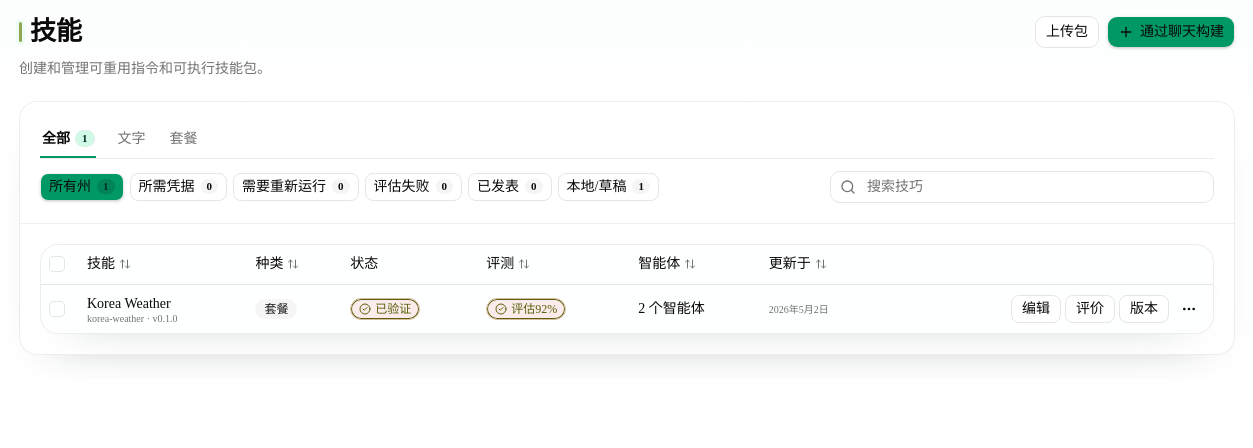
SkillsPage › '清除选择' 会同时重置 controlled 选择(rowSelection+selected)
What coordinates should you click on to do the following:
click the checkbox named "选择行"
I would click on:
 (57, 309)
Its box is x1=49 y1=301 x2=65 y2=317.
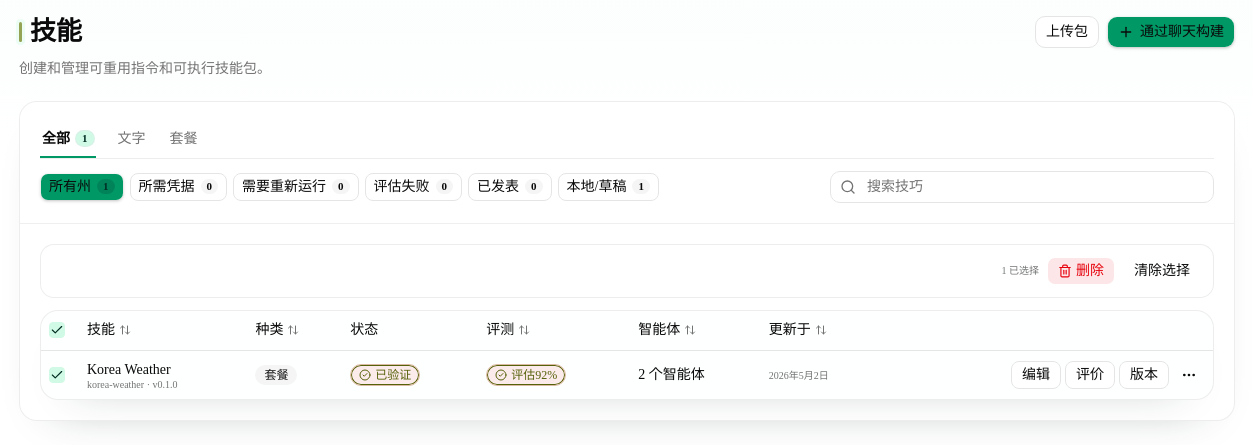
Check: the element with test id "skill-bulk-bar" shows "1 已选择", box x1=1002 y1=264 x2=1039 y2=276
What coordinates should you click on to do the following:
click the button "清除选择"
I would click on:
 (1162, 270)
Its box is x1=1123 y1=256 x2=1201 y2=284.
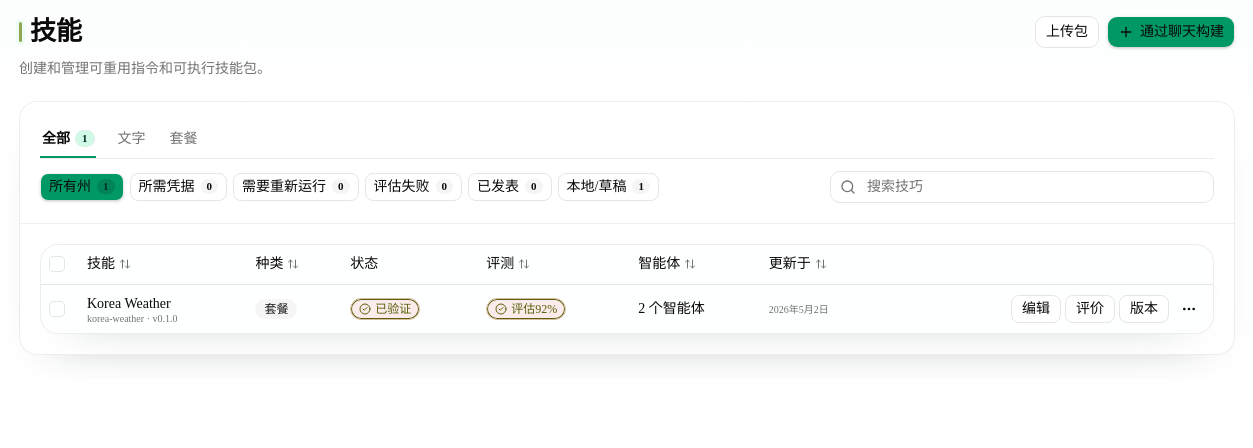
Check: the element with test id "skill-bulk-bar" is gone
Check: the checkbox named "选择行" is not checked, box x1=49 y1=301 x2=65 y2=317
